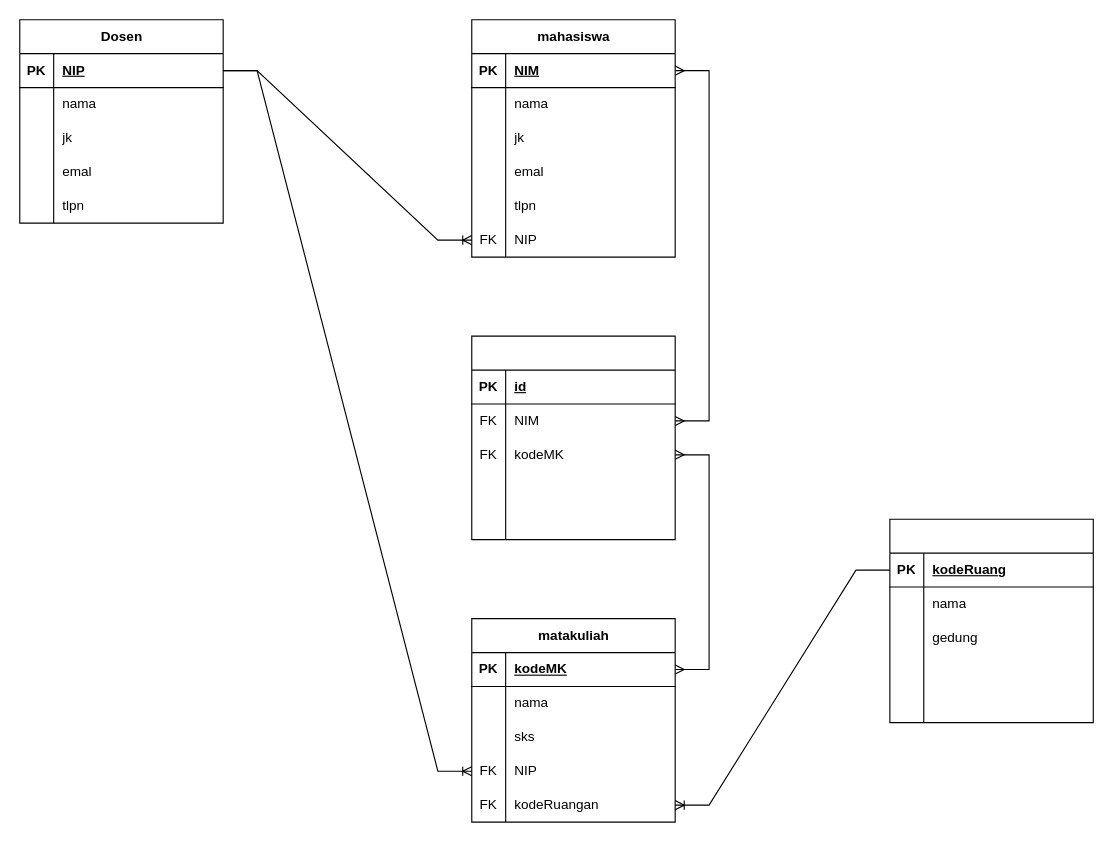
Some shapes in this 1113 by 842 pixel diagram are drawn without their labels. The box of each missing label's shape, as (x1, y1, x2, y2) in pixels:
rekapperkuliahan: (471, 335, 675, 540)
ruangan: (889, 518, 1093, 723)
